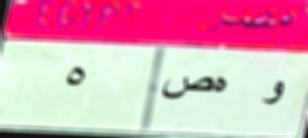5: (59, 58, 90, 93)
haa: (214, 75, 233, 96)
saad: (161, 69, 212, 102)
waw: (257, 75, 287, 112)
